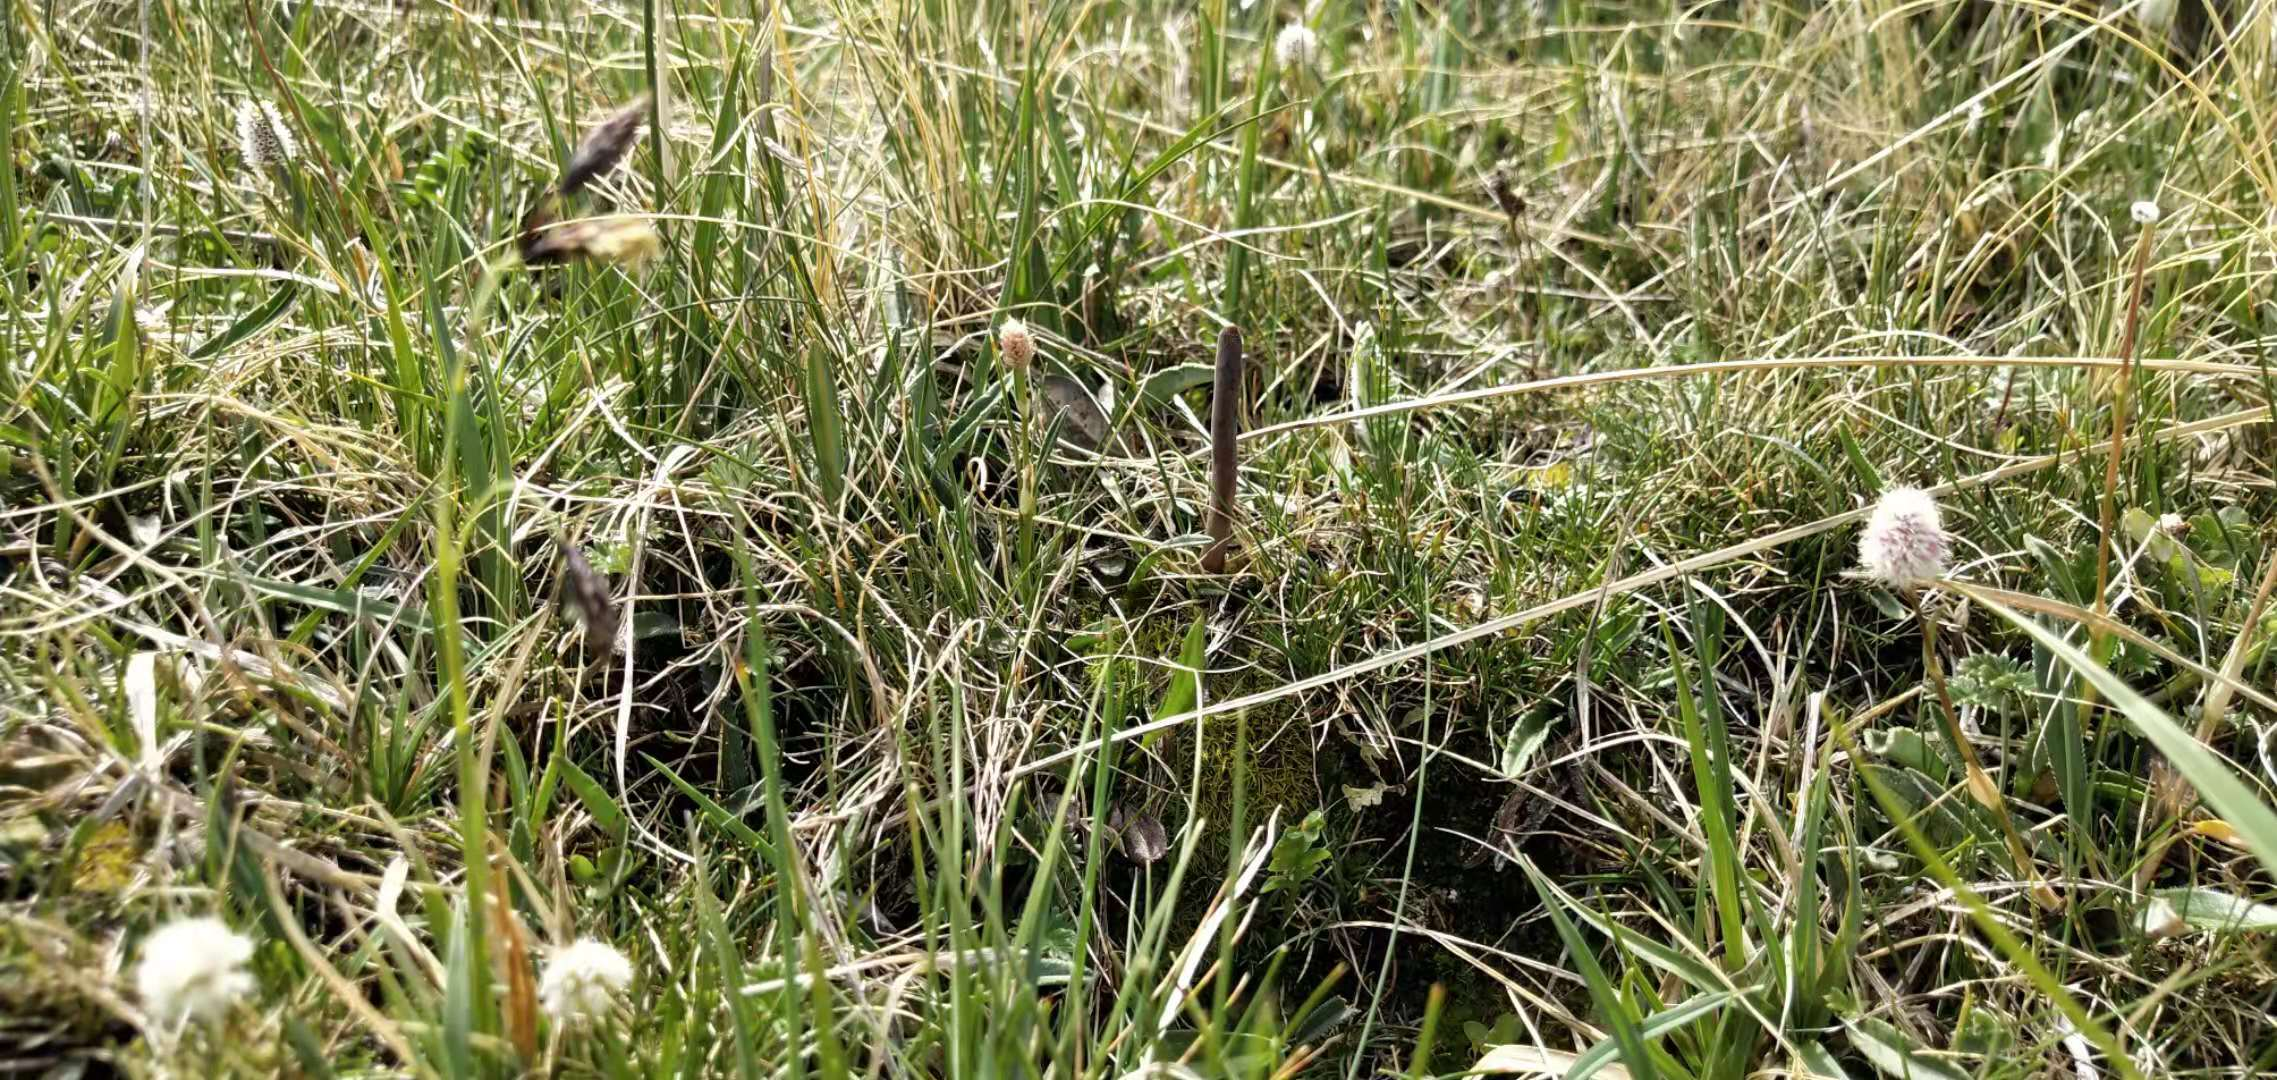w: (1201, 324, 1242, 573)
